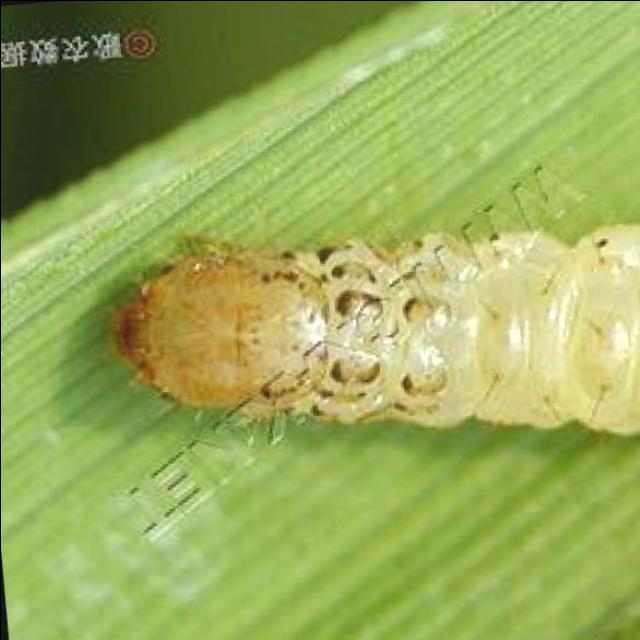leaf folder: (112, 225, 640, 434)
